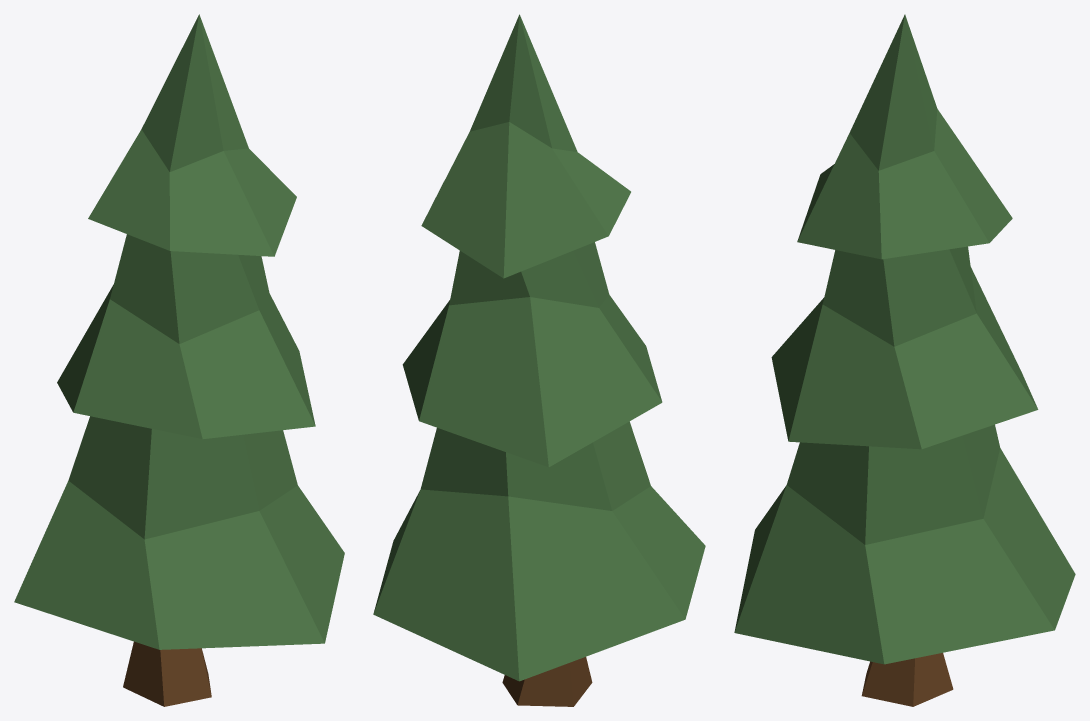
Rendered from albero1.obj.
The picture shows the model from 3 angles, left to right: view 1: azimuth 30°, elevation 25°; view 2: azimuth 150°, elevation 25°; view 3: azimuth 270°, elevation 25°; orthographic projection. The views are drawn at different scales.
Parts seen in each view (by area): view 1: SpruceTree1.001, SpruceTree1; view 2: SpruceTree1.001, SpruceTree1; view 3: SpruceTree1.001, SpruceTree1.
Part boxes in pixels (box(x1,y1,x2,y2)): SpruceTree1.001: box(14, 14, 344, 649); SpruceTree1: box(123, 641, 211, 706); SpruceTree1.001: box(373, 14, 705, 681); SpruceTree1: box(502, 657, 592, 706); SpruceTree1.001: box(734, 14, 1075, 664); SpruceTree1: box(861, 653, 953, 706).
Bounding box in the file's own units: 5.9 × 12.09 × 5.44.
2 materials, 2 textured.
